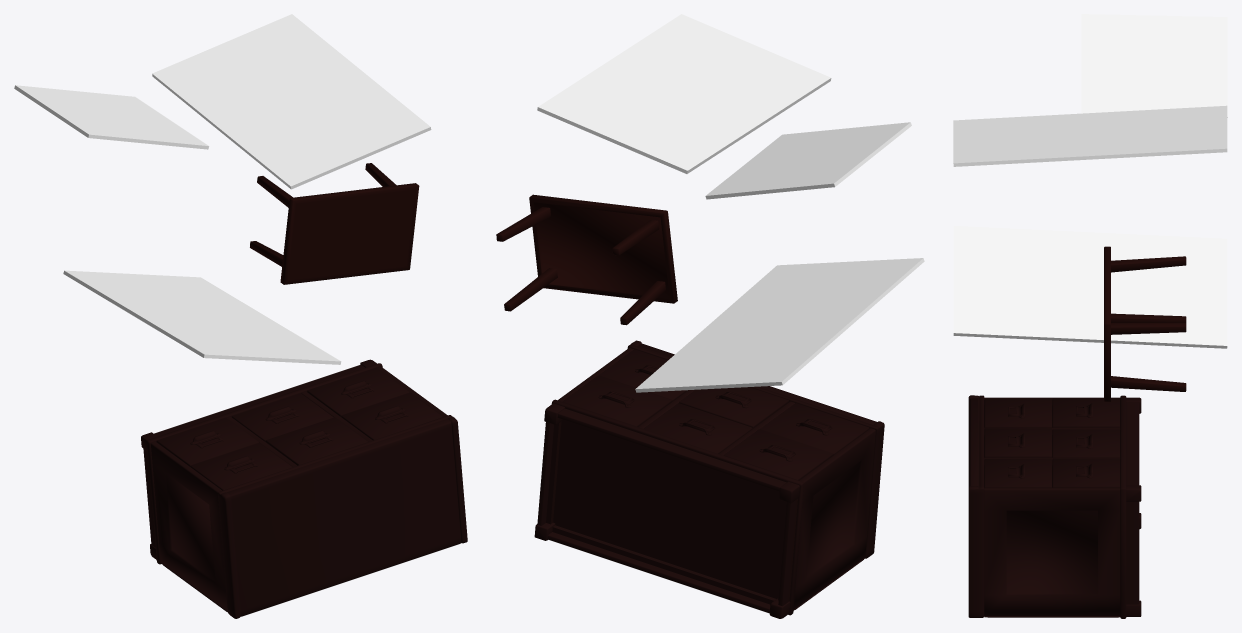
The picture shows the model from 3 angles, left to right: view 1: azimuth 30°, elevation 25°; view 2: azimuth 150°, elevation 25°; view 3: azimuth 270°, elevation 25°; orthographic projection. The views are drawn at different scales.
Visible parts, largest first — view 1: diffuse_cabinet_01, glass_door_03, diffuse_table_02, glass_door_01, glass_table_02; view 2: diffuse_cabinet_01, glass_door_03, glass_door_01, diffuse_table_02, glass_table_02; view 3: diffuse_cabinet_01, glass_door_01, glass_table_02, glass_door_03, diffuse_table_02.
Part boxes in pixels (x1=…): diffuse_cabinet_01: x1=141, y1=359, x2=467, y2=618; glass_door_03: x1=152, y1=14, x2=431, y2=189; diffuse_table_02: x1=250, y1=163, x2=419, y2=284; glass_door_01: x1=63, y1=270, x2=341, y2=364; glass_table_02: x1=14, y1=85, x2=209, y2=149; diffuse_cabinet_01: x1=534, y1=340, x2=884, y2=618; glass_door_03: x1=537, y1=14, x2=831, y2=173; glass_door_01: x1=635, y1=258, x2=924, y2=392; diffuse_table_02: x1=496, y1=194, x2=677, y2=325; glass_table_02: x1=705, y1=122, x2=911, y2=199; diffuse_cabinet_01: x1=968, y1=395, x2=1141, y2=618; glass_door_01: x1=953, y1=226, x2=1227, y2=348; glass_table_02: x1=1081, y1=14, x2=1227, y2=117; glass_door_03: x1=953, y1=105, x2=1227, y2=166; diffuse_table_02: x1=1104, y1=246, x2=1186, y2=401.
Bounding box in the file's own units: 218 × 283 × 150.
